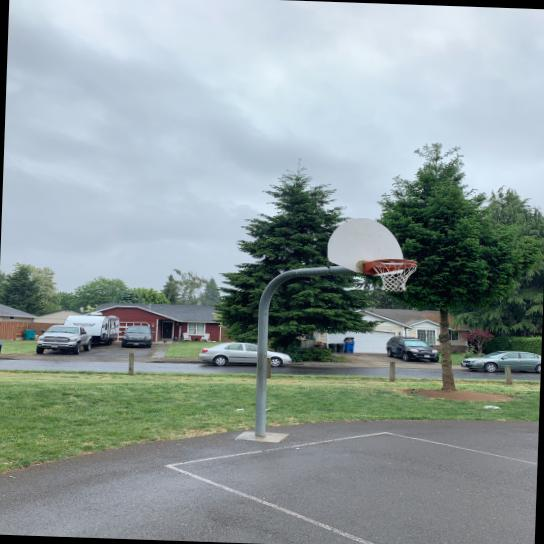basketball-hoop: (369, 258, 419, 294)
